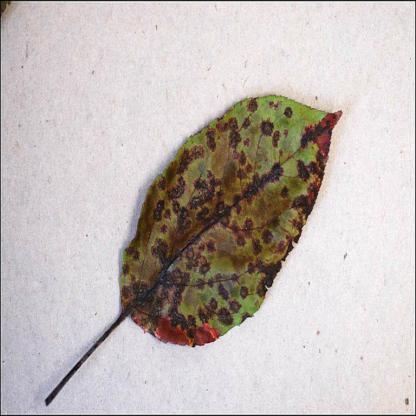apple scab leaf: (113, 75, 353, 355)
